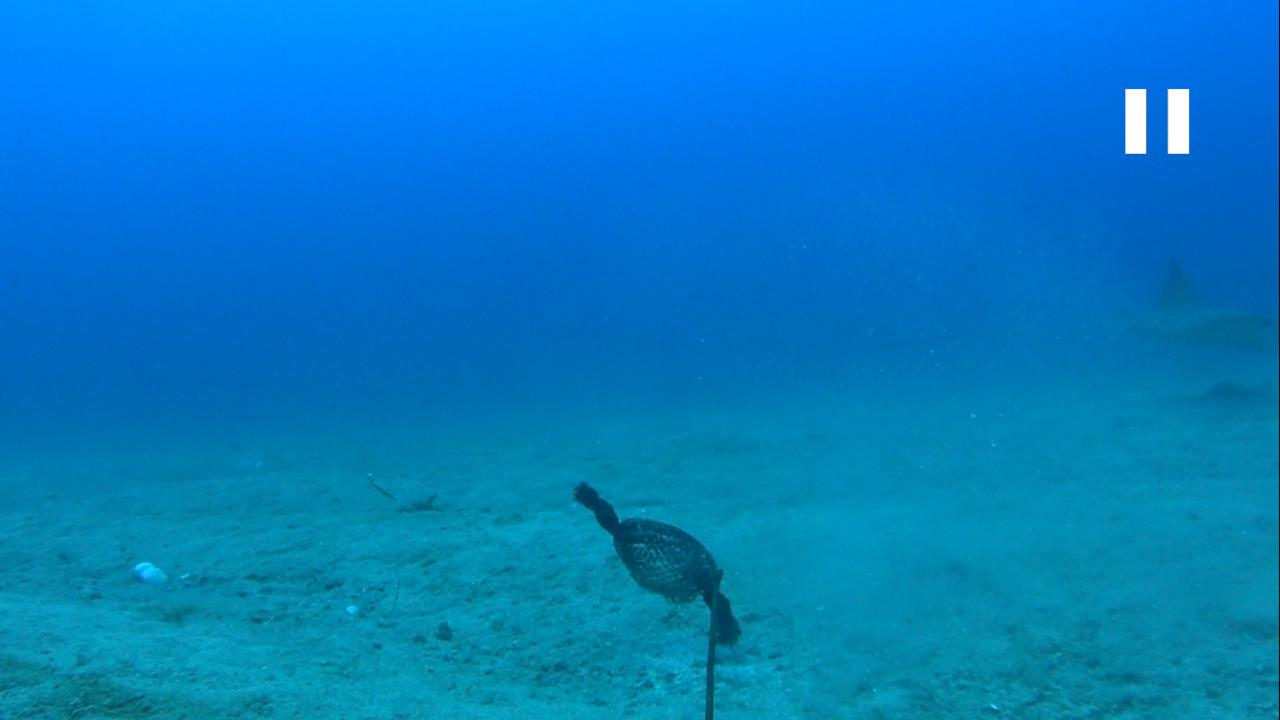myliobatis: (848, 241, 1279, 377)
